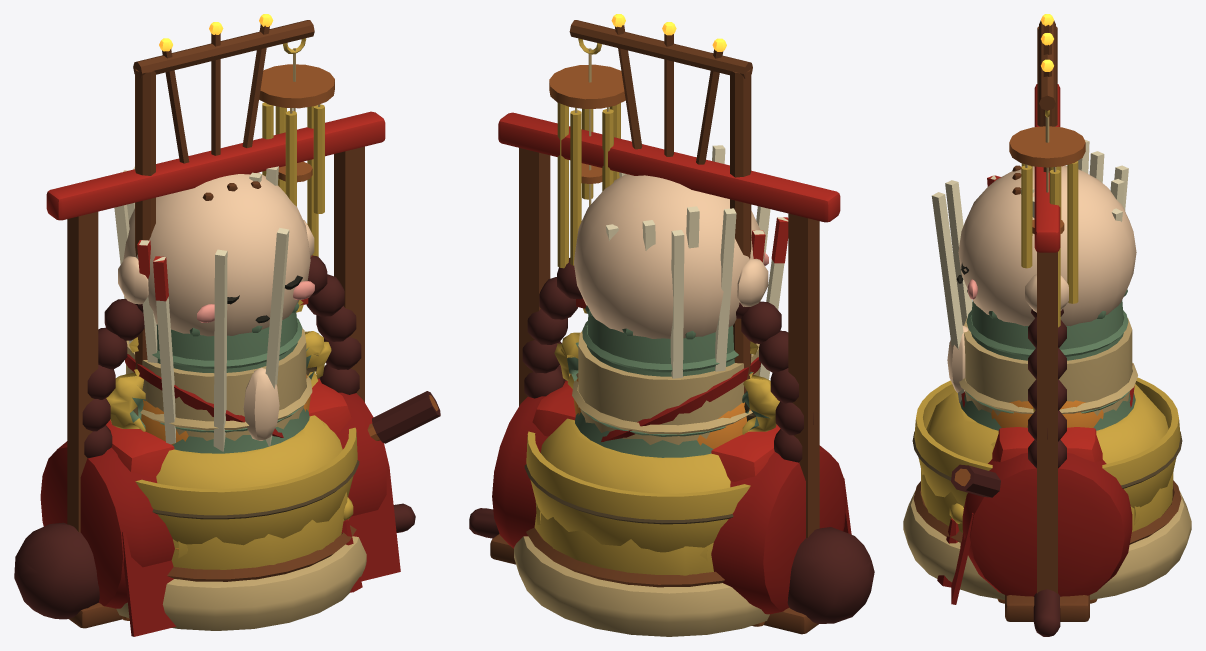
The model's file is relics.glb.
3 renders of one model, left to right at view 1: azimuth 30°, elevation 25°; view 2: azimuth 150°, elevation 25°; view 3: azimuth 270°, elevation 25°, orthographic. The views are drawn at different scales.
Parts seen in each view (by area): view 1: novice-upper, bell-frame, wrap-cloth, novice-seat, incense-burner, bowl-body, sticks-sticks, beads-loop, chime-body, rosewood-mallet, chime-stand, sticks-cup (+5 smaller); view 2: bell-frame, novice-upper, wrap-cloth, novice-seat, incense-burner, bowl-body, sticks-cup, beads-loop, chime-body, bell-body, rosewood-mallet, sticks-sticks (+4 smaller); view 3: novice-upper, wrap-cloth, bell-frame, novice-seat, sticks-cup, incense-burner, bowl-body, chime-body, bell-body, sticks-sticks, recorder-body, beads-loop (+4 smaller).
Part boxes in pixels (x1,y1,x2,y2): novice-upper: (118, 172, 314, 444); bell-frame: (46, 111, 385, 628); wrap-cloth: (40, 378, 400, 636); novice-seat: (116, 525, 366, 630); incense-burner: (156, 415, 348, 569); bowl-body: (135, 427, 359, 545); sticks-sticks: (114, 166, 289, 451); beads-loop: (82, 255, 361, 458); chime-body: (259, 48, 334, 305); rosewood-mallet: (14, 503, 415, 619); chime-stand: (133, 20, 314, 376); sticks-cup: (125, 328, 312, 440); bell-frame: (490, 112, 840, 634); novice-upper: (573, 174, 768, 448); wrap-cloth: (492, 381, 851, 614); novice-seat: (514, 527, 769, 636); incense-burner: (534, 418, 730, 575); bowl-body: (524, 431, 750, 552); sticks-cup: (572, 331, 759, 444); beads-loop: (522, 258, 813, 462); chime-body: (549, 48, 625, 308); bell-body: (575, 305, 738, 457); rosewood-mallet: (469, 508, 874, 623); sticks-sticks: (606, 145, 788, 379); novice-upper: (947, 165, 1136, 427); wrap-cloth: (937, 441, 1140, 604); bell-frame: (1005, 84, 1089, 621); novice-seat: (903, 480, 1191, 599); sticks-cup: (959, 318, 1137, 415); incense-burner: (921, 384, 1173, 532); bowl-body: (912, 377, 1182, 508); chime-body: (1009, 116, 1085, 327); bell-body: (960, 289, 1135, 430); sticks-sticks: (931, 140, 1128, 402); recorder-body: (992, 427, 1102, 462); beads-loop: (1028, 309, 1066, 468).
Bounding box in the file's own units: 0.4996 × 0.6856 × 0.34.
